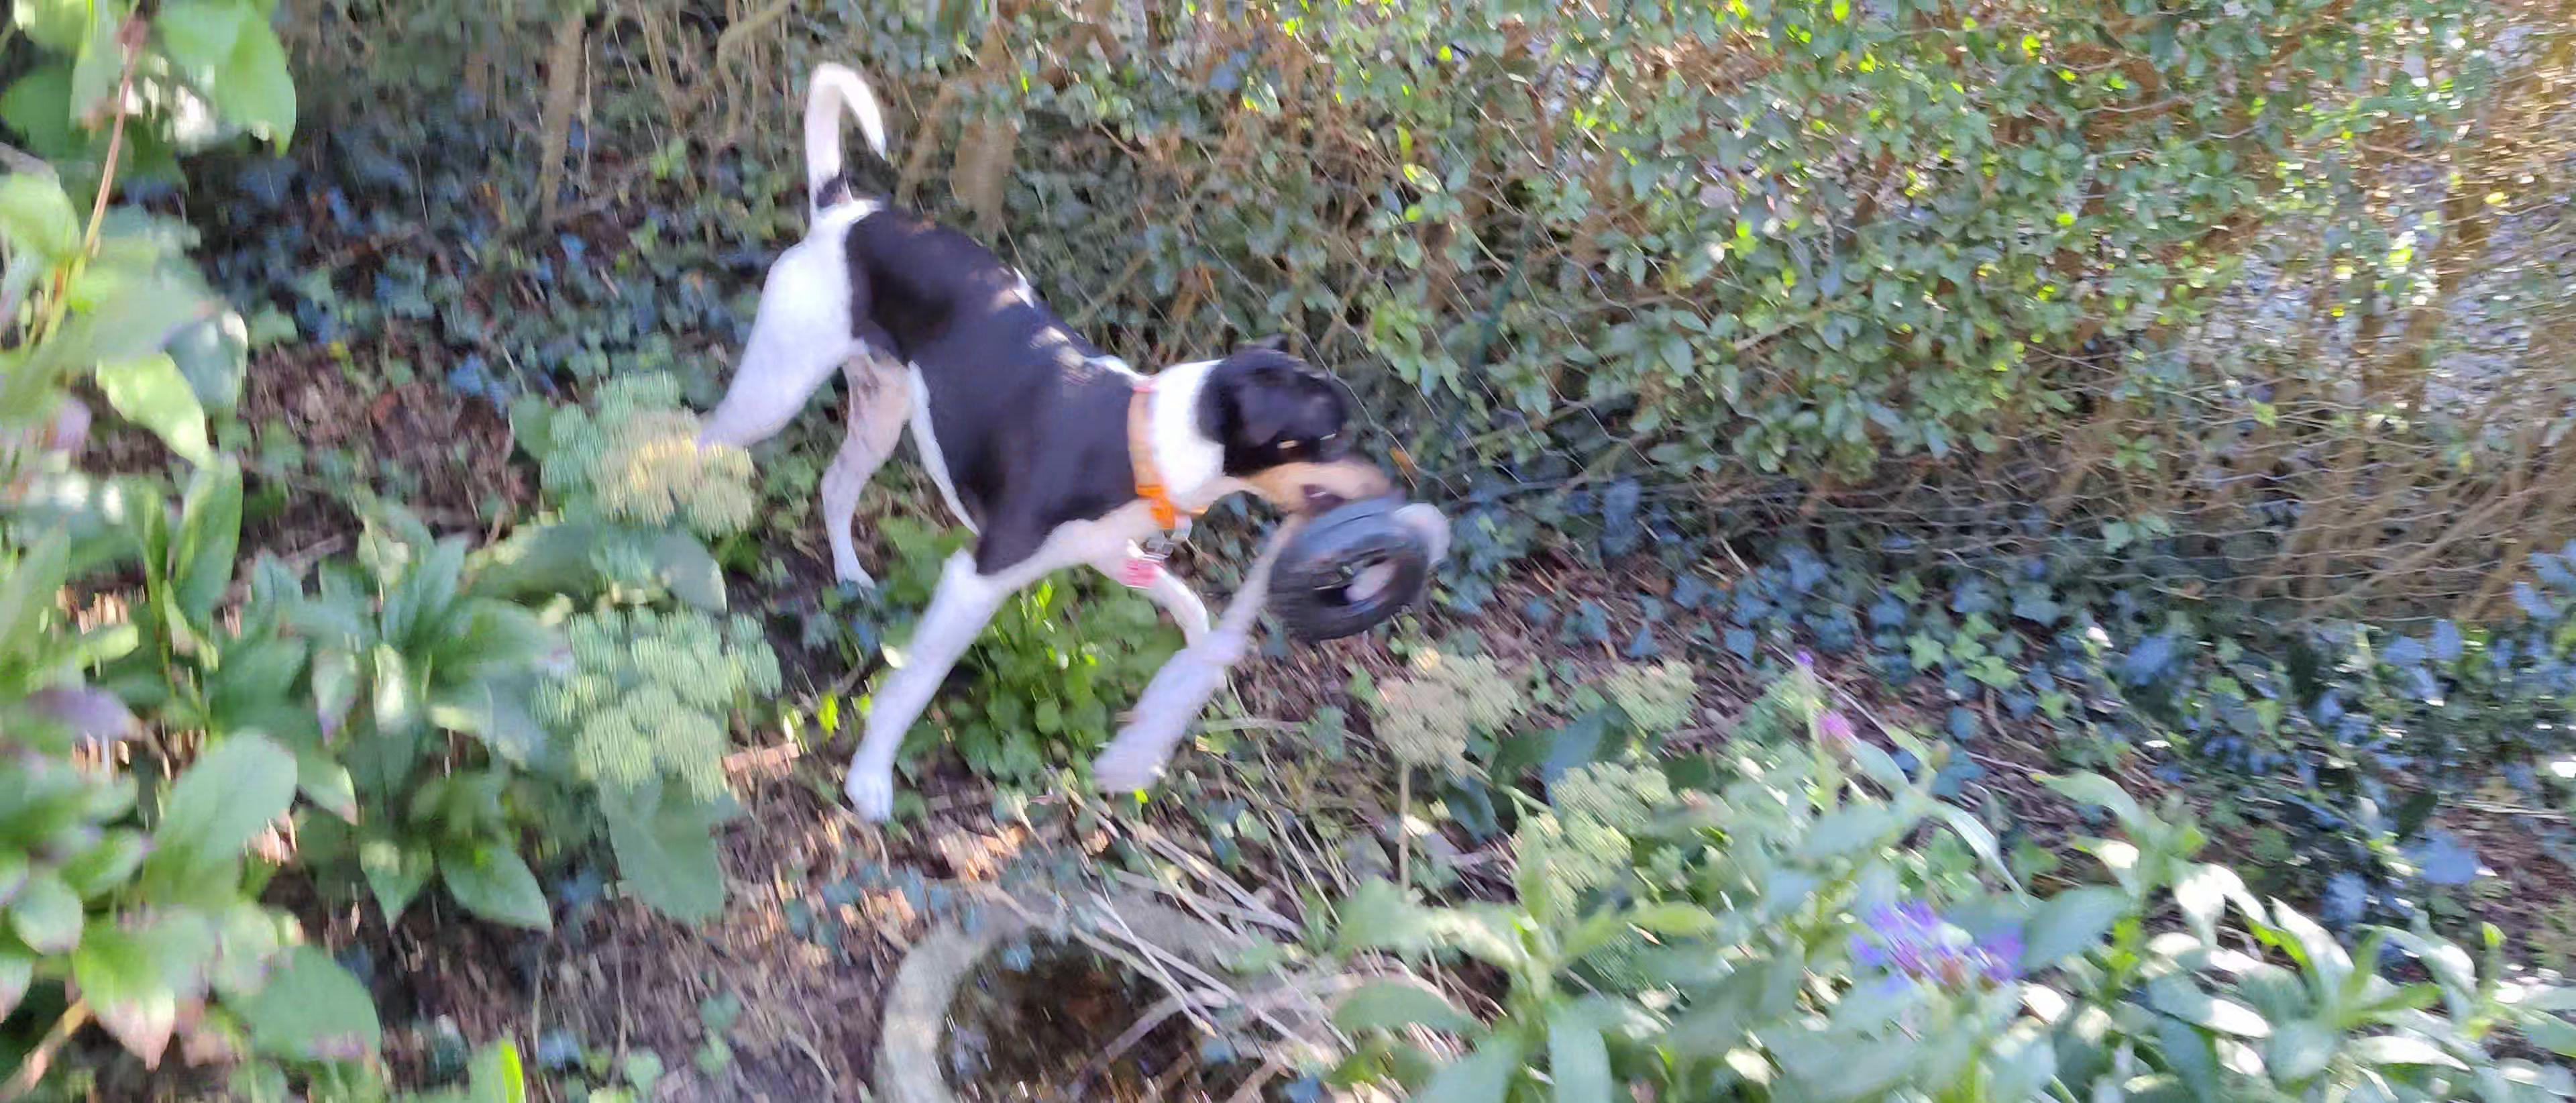Dog: (619, 54, 1408, 830)
